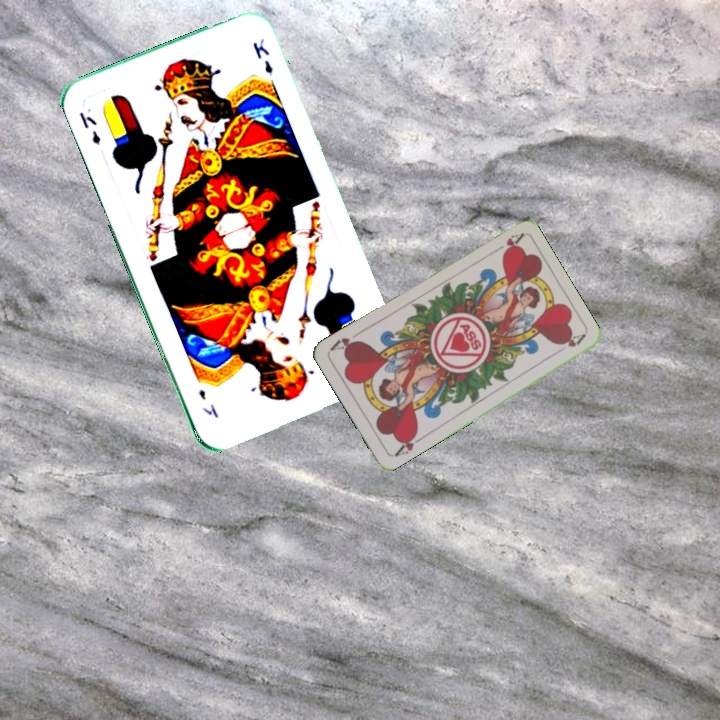EK: (75, 107, 103, 148)
HA: (390, 428, 426, 459), (488, 230, 525, 258)
